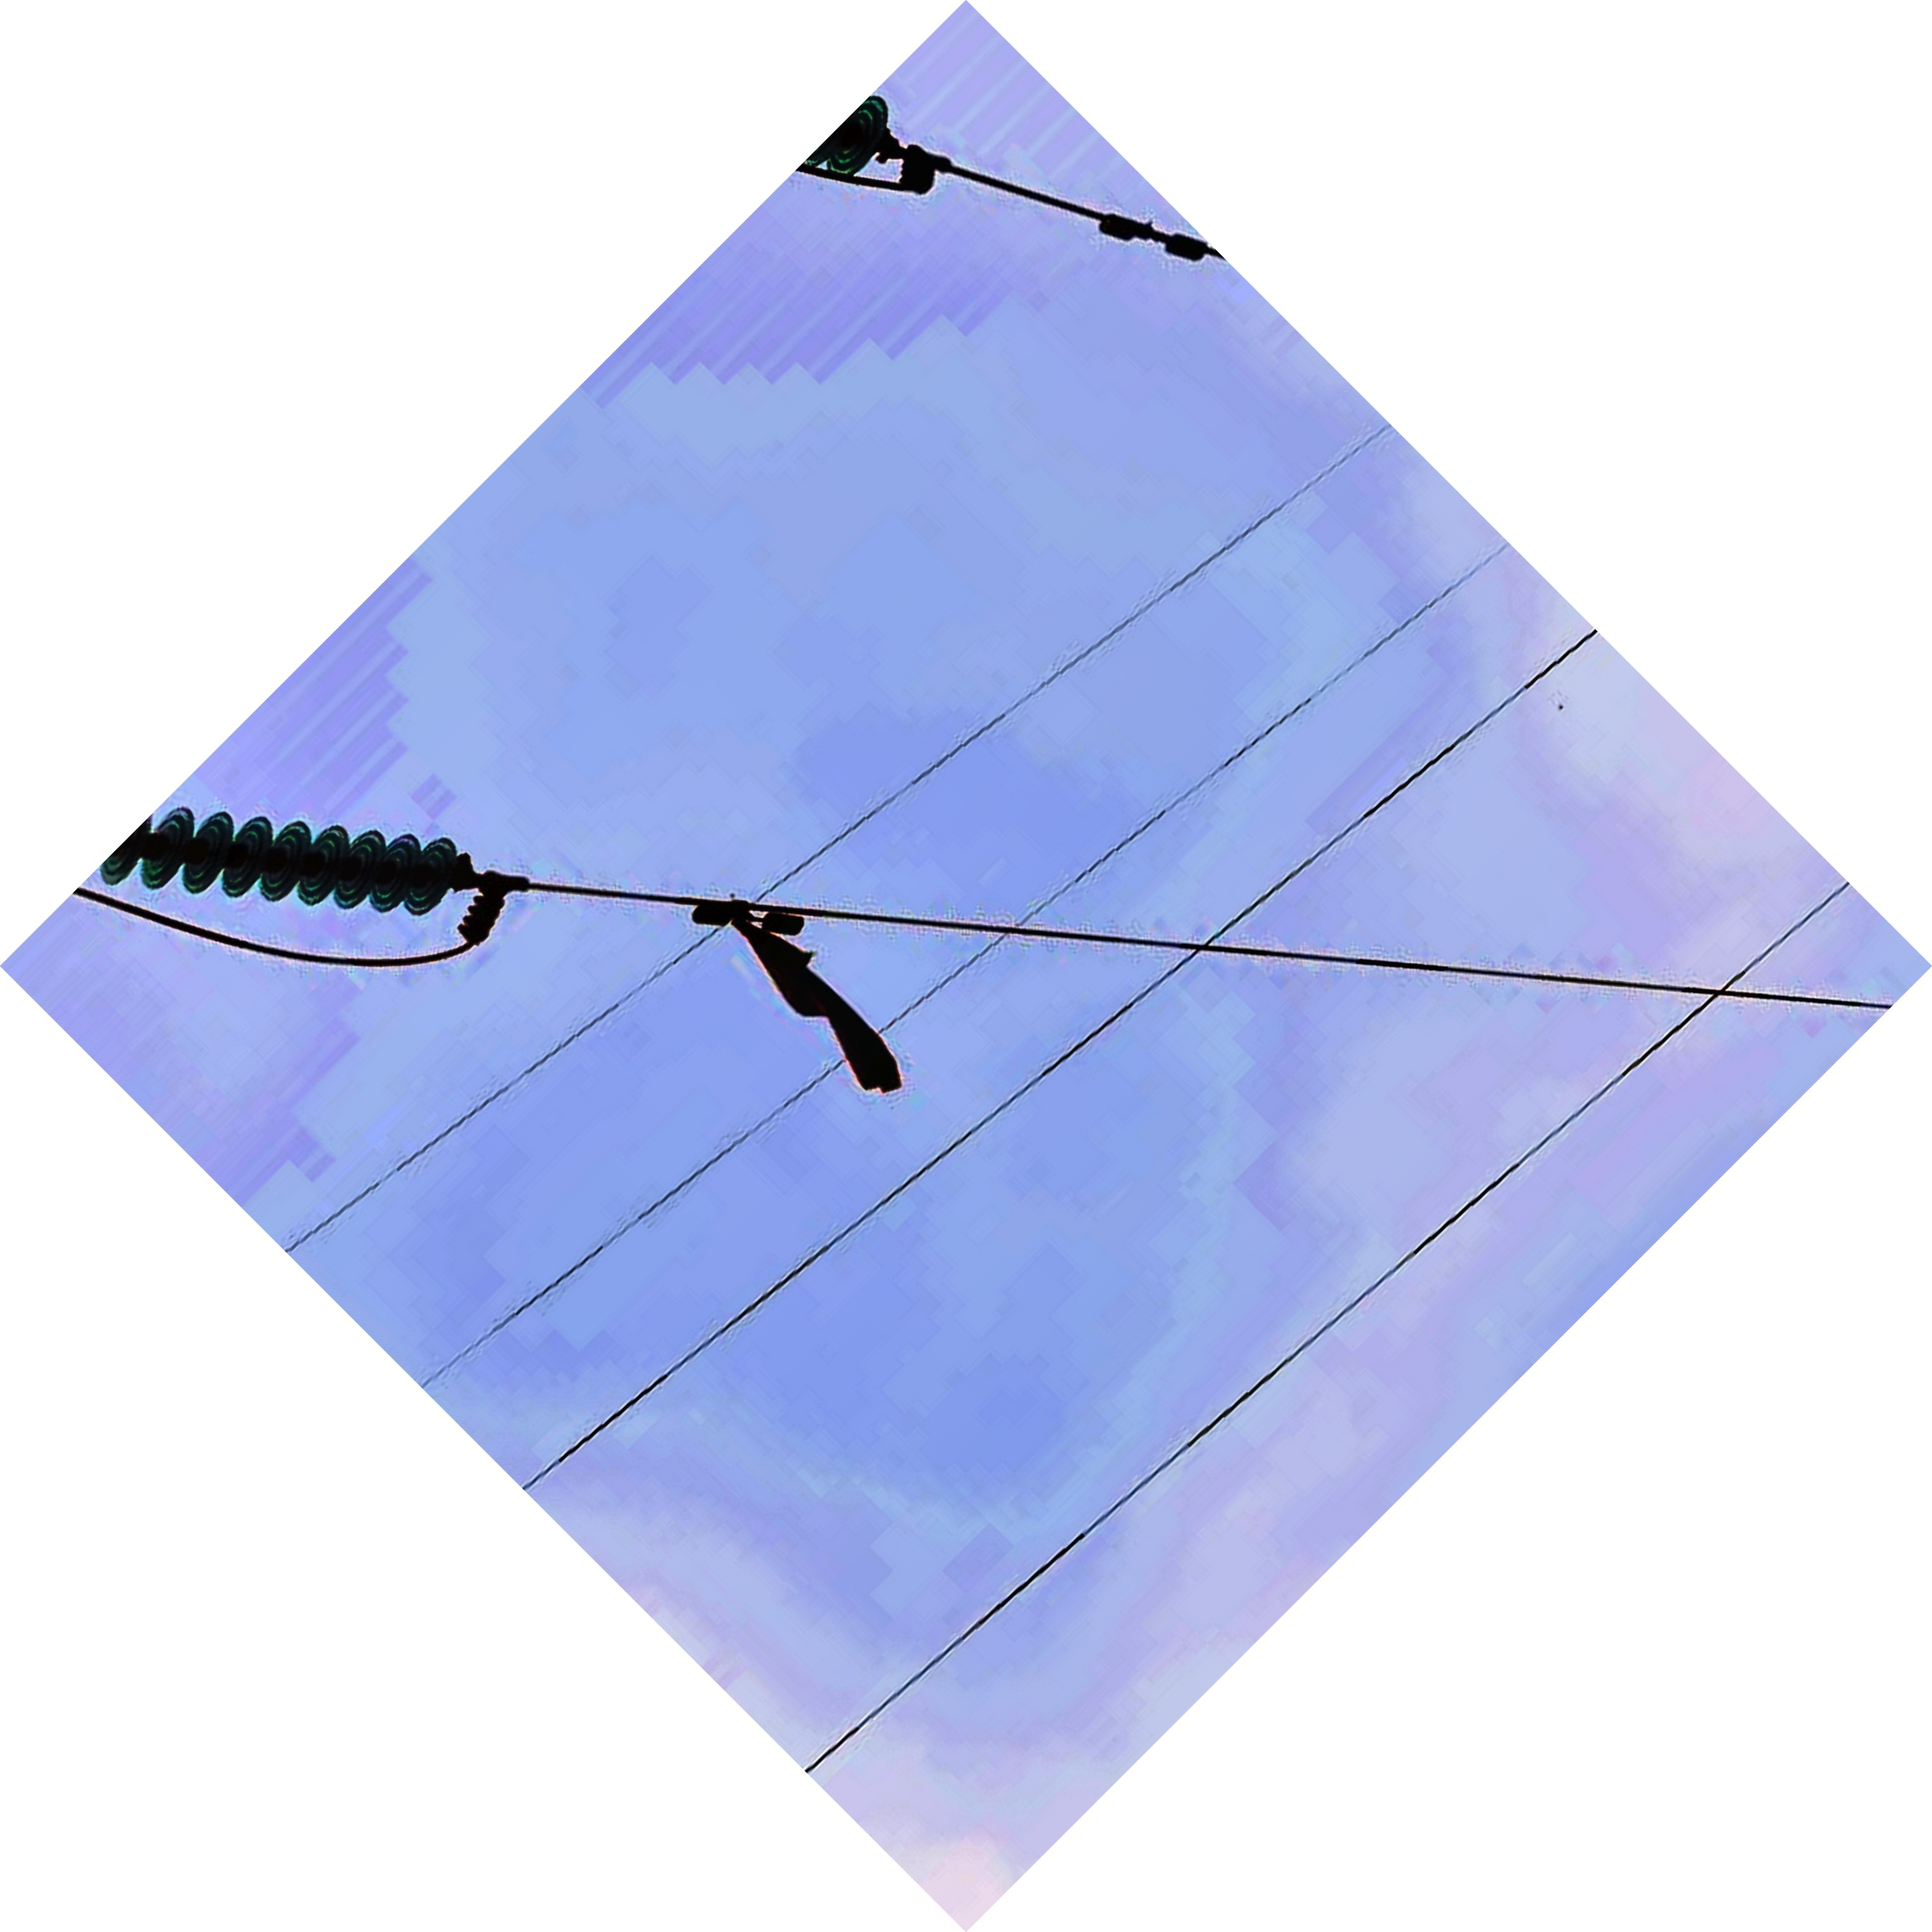wire foreign body: (688, 883, 925, 1104)
